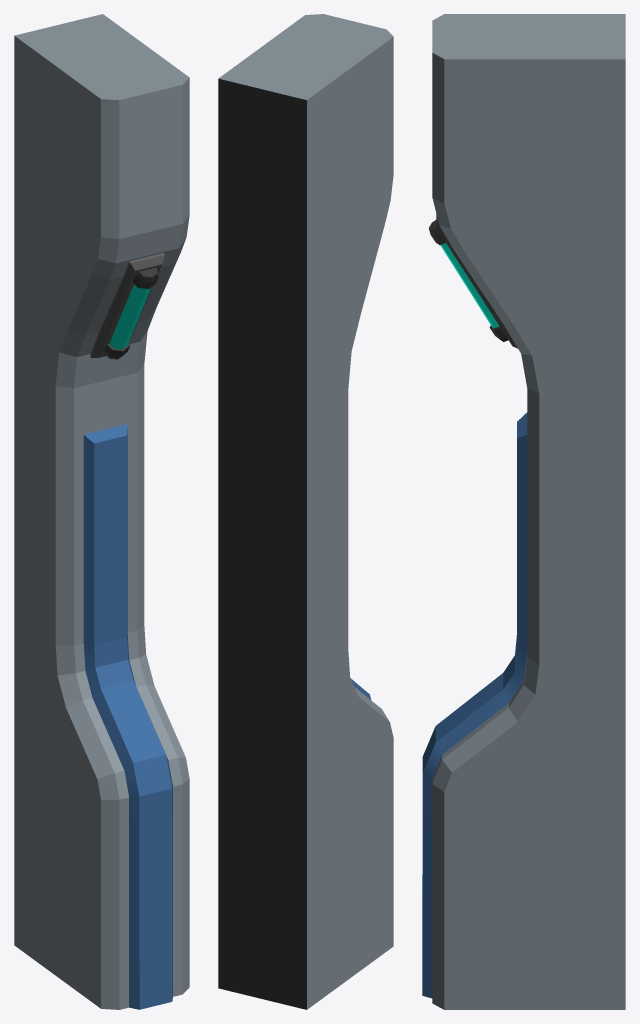
The model's file is SM_Bld_Wall_Pillar_02.fbx.
3 renders of one model, left to right at view 1: azimuth 30°, elevation 25°; view 2: azimuth 150°, elevation 25°; view 3: azimuth 270°, elevation 25°, orthographic. The views are drawn at different scales.
Visible parts, largest first — view 1: SM_Bld_Wall_Pillar_02; view 2: SM_Bld_Wall_Pillar_02; view 3: SM_Bld_Wall_Pillar_02.
Part boxes in pixels (box(x1,y1,x2,y2)): SM_Bld_Wall_Pillar_02: box(14, 14, 189, 1009); SM_Bld_Wall_Pillar_02: box(218, 14, 393, 1009); SM_Bld_Wall_Pillar_02: box(422, 14, 625, 1009).
Bounding box in the file's own units: 51.9 × 509 × 98.76.
1 material, 1 textured.
